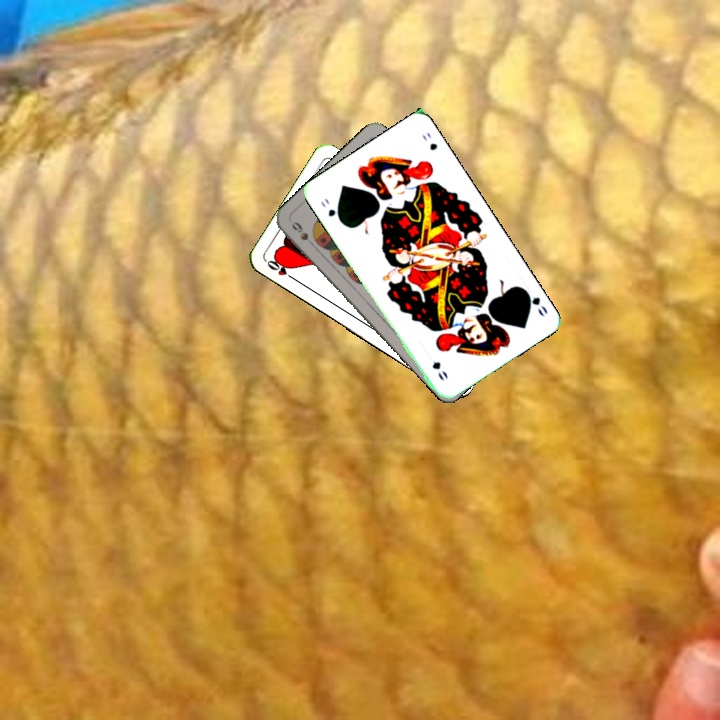GO: (519, 284, 550, 319), (317, 195, 345, 226)
HO: (263, 256, 299, 283)
S9: (287, 217, 319, 251)
